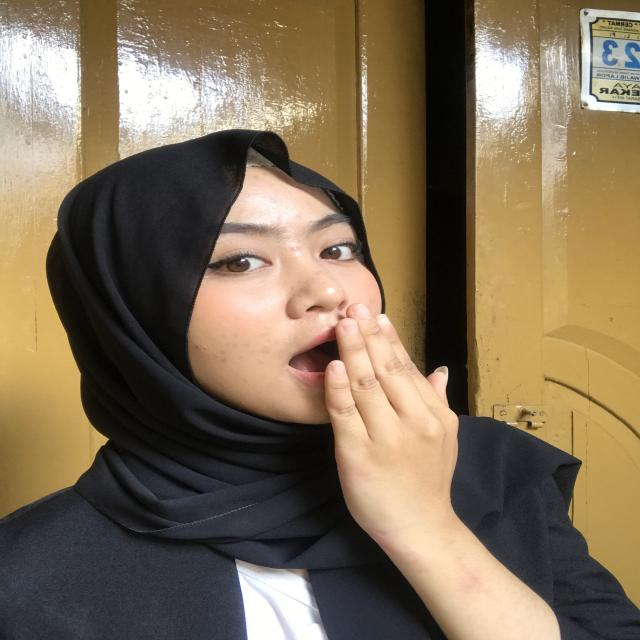ngantuk: (278, 288, 522, 535)
